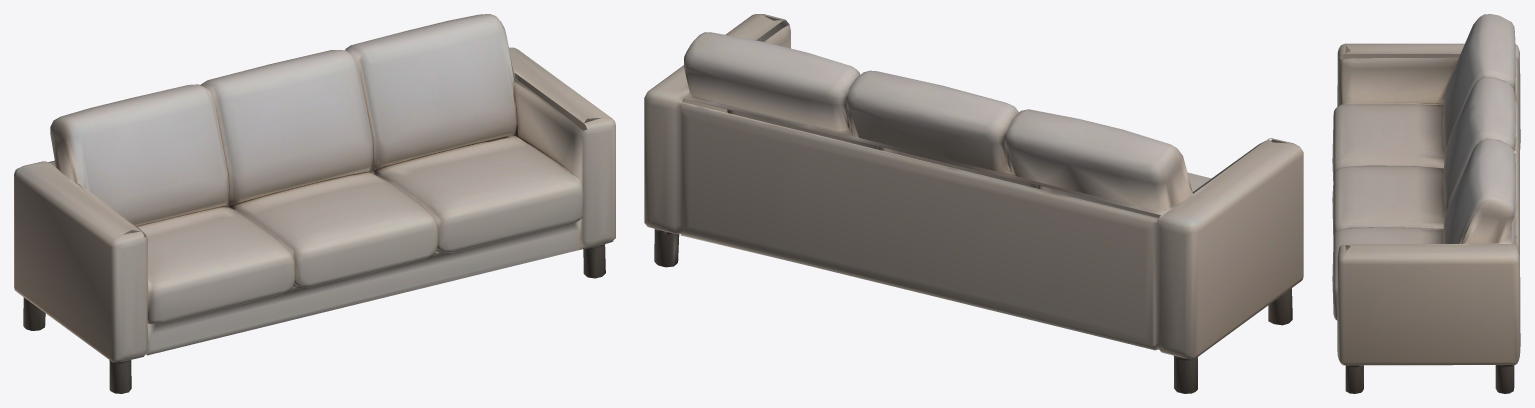
The model's file is Couch.glb.
3 renders of one model, left to right at view 1: azimuth 30°, elevation 25°; view 2: azimuth 150°, elevation 25°; view 3: azimuth 270°, elevation 25°, orthographic. The views are drawn at different scales.
Visible parts, largest first — view 1: material_001; view 2: material_001; view 3: material_001.
Boxes of the visible parts, x1=… form: material_001: x1=14, y1=14, x2=615, y2=393; material_001: x1=644, y1=14, x2=1303, y2=393; material_001: x1=1332, y1=14, x2=1520, y2=393.
Bounding box in the file's own units: 1.9 × 0.7557 × 0.6971.
1 material, 1 textured.
